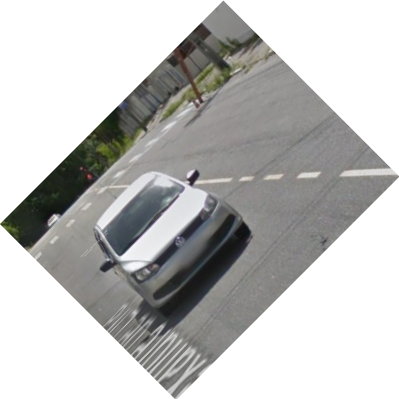car: (79, 167, 256, 320)
